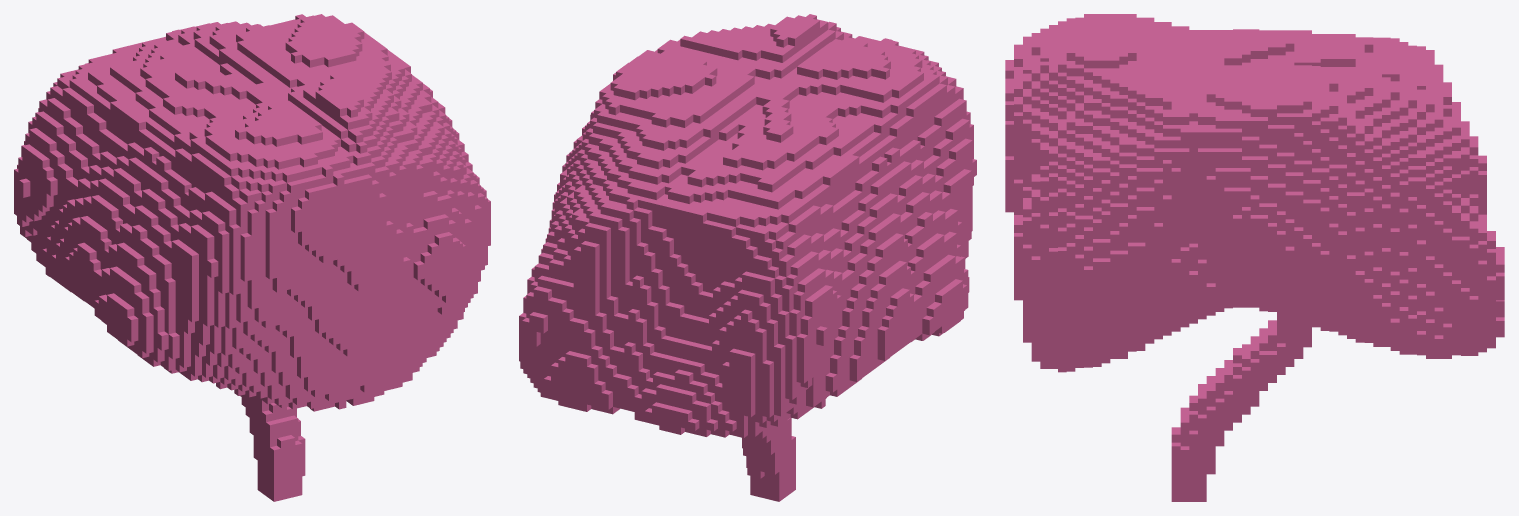
Rendered from Japan.fbx.
3 renders of one model, left to right at view 1: azimuth 30°, elevation 25°; view 2: azimuth 150°, elevation 25°; view 3: azimuth 270°, elevation 25°, orthographic. The views are drawn at different scales.
Visible parts, largest first — view 1: Japan; view 2: Japan; view 3: Japan.
Boxes of the visible parts, box(x1,y1,x2,y2) form: Japan: box(14, 14, 490, 501); Japan: box(519, 14, 976, 501); Japan: box(1005, 14, 1504, 501).
Bounding box in the file's own units: 183 × 222 × 222.
